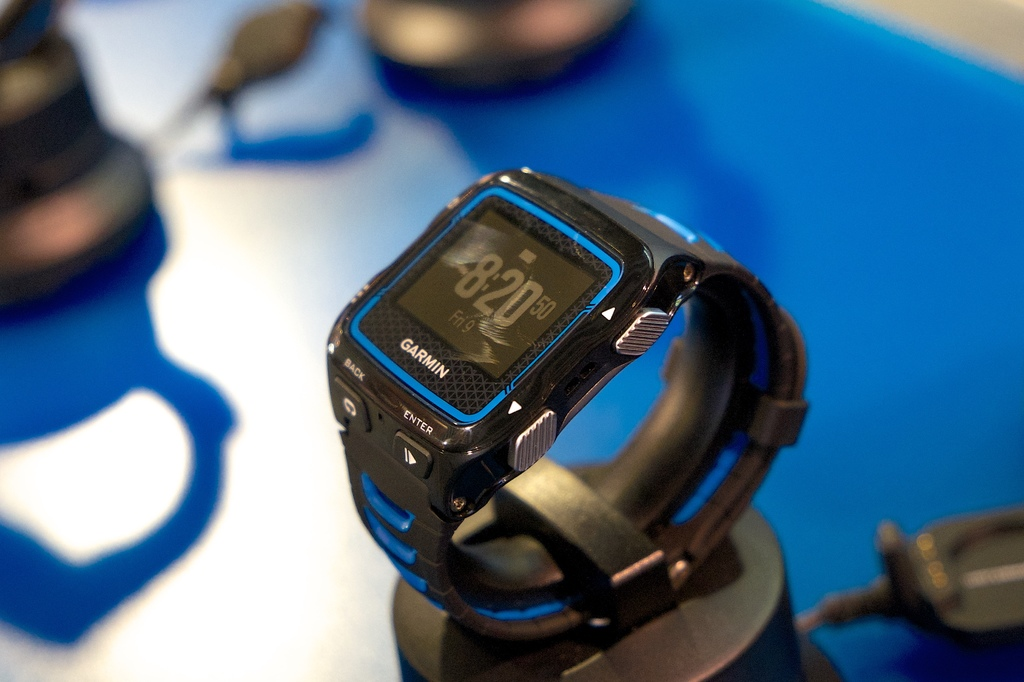watch: (328, 166, 814, 648)
